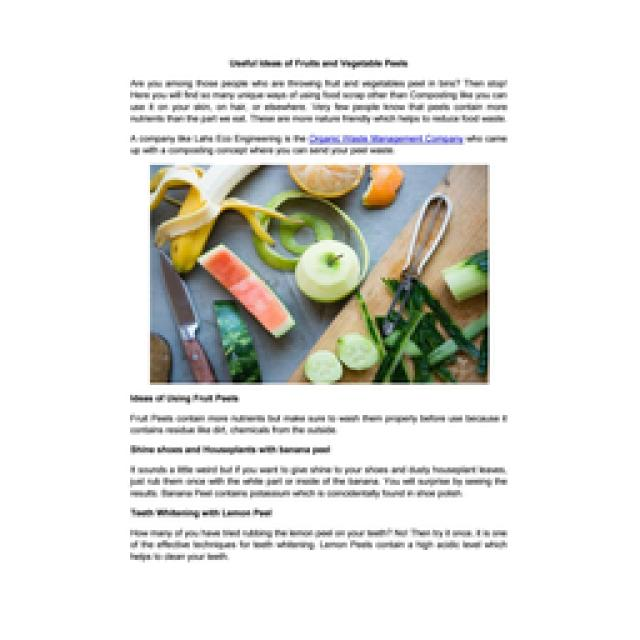food_waste: (225, 190, 485, 380), (190, 235, 292, 335), (442, 250, 485, 298)
